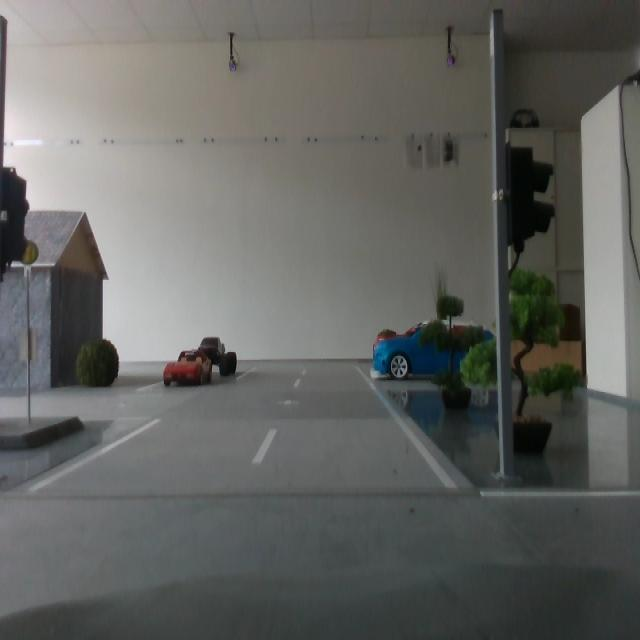car: (373, 321, 495, 381), (375, 323, 496, 380), (193, 334, 239, 380), (163, 350, 215, 390)
potted plant: (459, 265, 588, 452), (418, 293, 491, 408), (75, 338, 123, 394), (428, 270, 451, 358)
traffic light: (505, 142, 556, 253), (3, 162, 34, 288)
